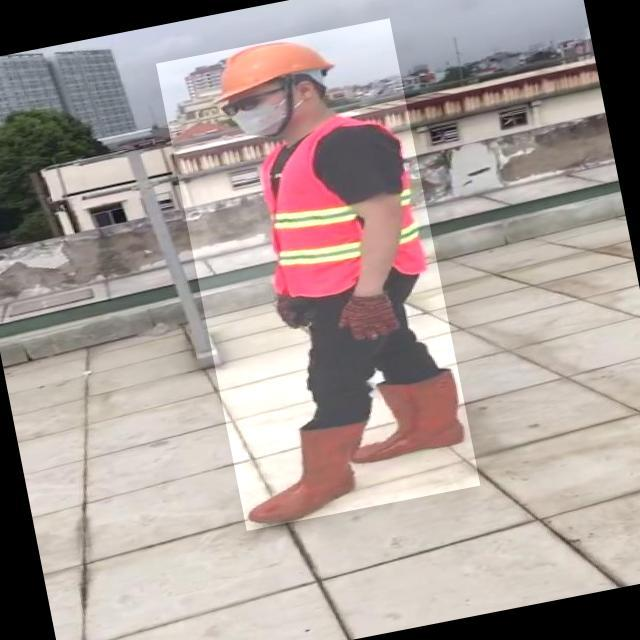Helmet: (209, 32, 336, 102)
Human: (157, 18, 481, 531)
Safety Boot: (232, 416, 381, 529), (353, 371, 468, 465)
Safety Vest: (246, 109, 433, 303)
